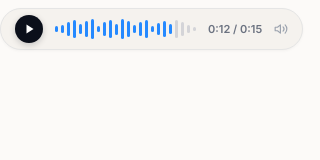
Interactive Chat & Reading Room Suite (Phase 7) › WaveformPlayer Component › toggles playback state and updates icon / label
What coordinates should you click on to do the following:
click the button named "Play audio"
I would click on:
 (29, 29)
Its box is [15, 15, 43, 43].
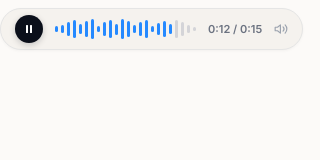
Expected: the button named "Pause audio" is shown
What coordinates should you click on to do the following:
click the button named "Pause audio"
I would click on:
 (29, 29)
Its box is [15, 15, 43, 43].
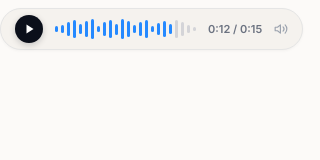
Expected: the button named "Play audio" is shown, [15, 15, 43, 43]
